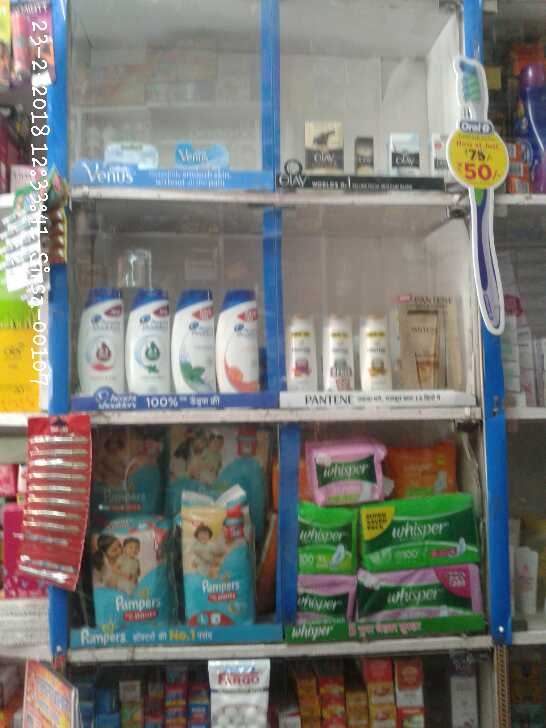venus: (176, 141, 226, 169), (105, 144, 159, 167)
